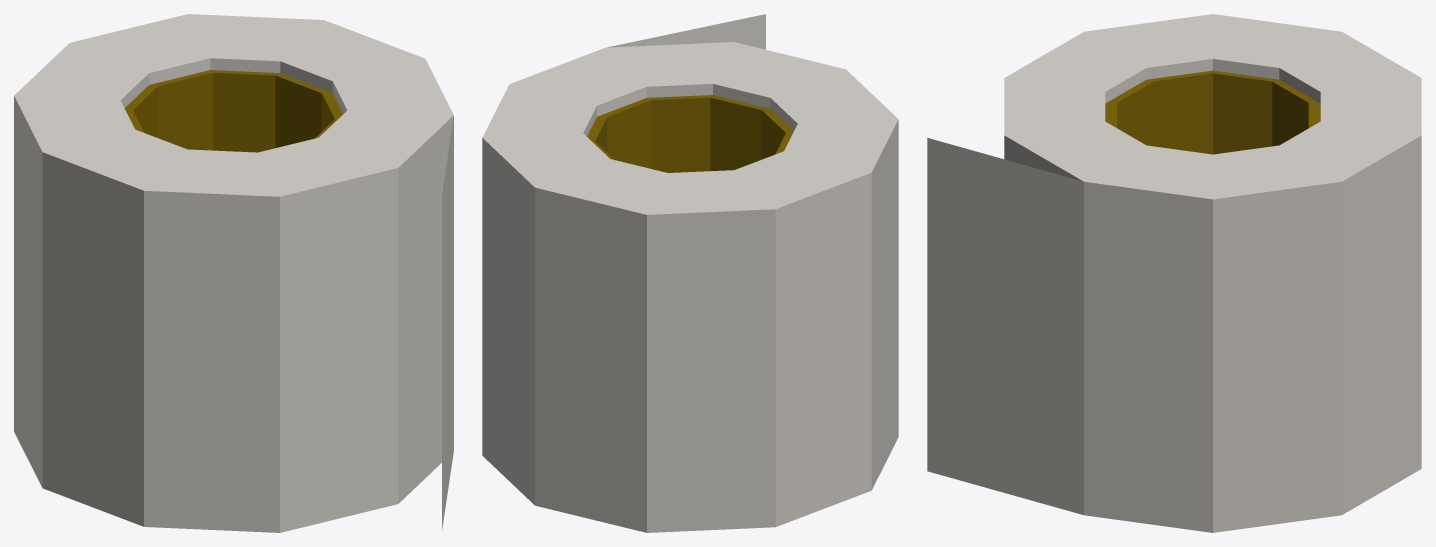
File: SM_Papel.fbx
3 renders of one model, left to right at view 1: azimuth 30°, elevation 25°; view 2: azimuth 150°, elevation 25°; view 3: azimuth 270°, elevation 25°, orthographic. The views are drawn at different scales.
Visible parts, largest first — view 1: pCylinder1; view 2: pCylinder1; view 3: pCylinder1.
Boxes of the visible parts, x1,y1,x2,y2 form: pCylinder1: [14, 14, 453, 532]; pCylinder1: [482, 14, 898, 532]; pCylinder1: [927, 14, 1421, 532].
Size of the model in its own units: 3.99 by 3.35 by 4.5.
